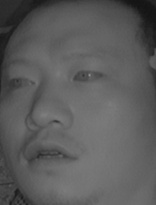eye: (70, 64, 104, 86), (7, 72, 37, 90)
mouth: (23, 136, 80, 171)
